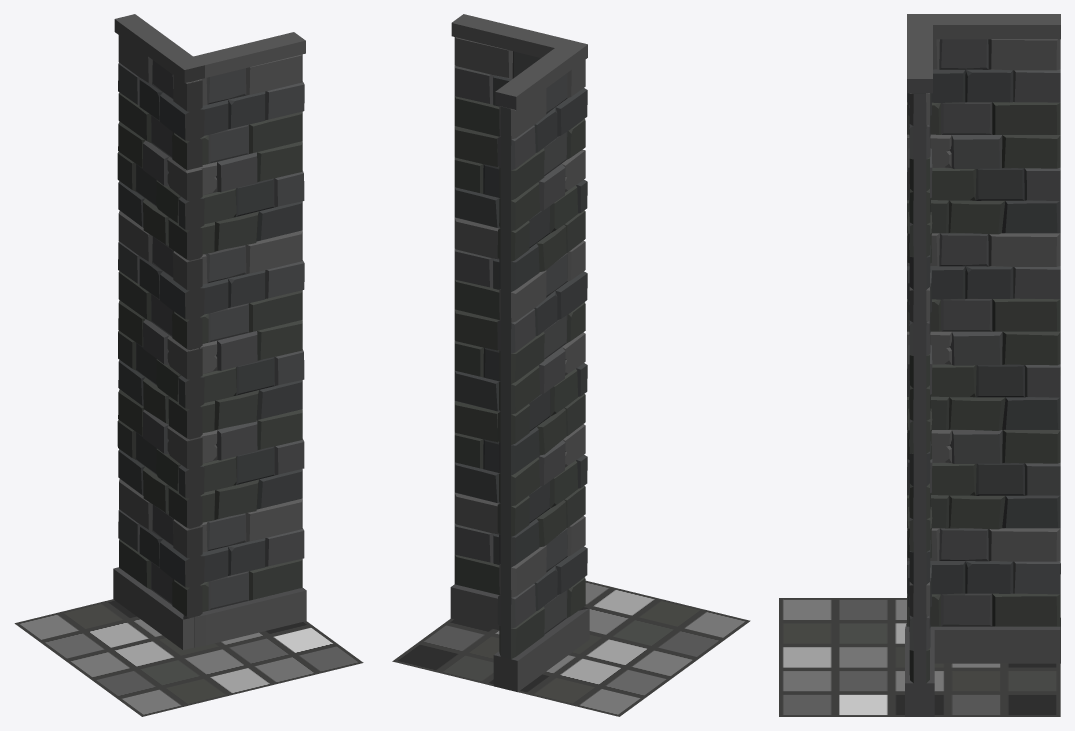
The model's file is Dungeon_Tilemap_90_degree_corners_1.fbx.
3 views of the same model, side by side, from view 1: azimuth 30°, elevation 25°; view 2: azimuth 150°, elevation 25°; view 3: azimuth 270°, elevation 25° (orthographic). The views are drawn at different scales.
Visible parts, largest first — view 1: Dungeon_Tilemap_90 degree corners_1; view 2: Dungeon_Tilemap_90 degree corners_1; view 3: Dungeon_Tilemap_90 degree corners_1.
Part boxes in pixels (x1,y1,x2,y2): Dungeon_Tilemap_90 degree corners_1: [14, 14, 363, 716]; Dungeon_Tilemap_90 degree corners_1: [392, 14, 750, 716]; Dungeon_Tilemap_90 degree corners_1: [779, 14, 1060, 716].
Bounding box in the file's own units: 100 × 250 × 100.
